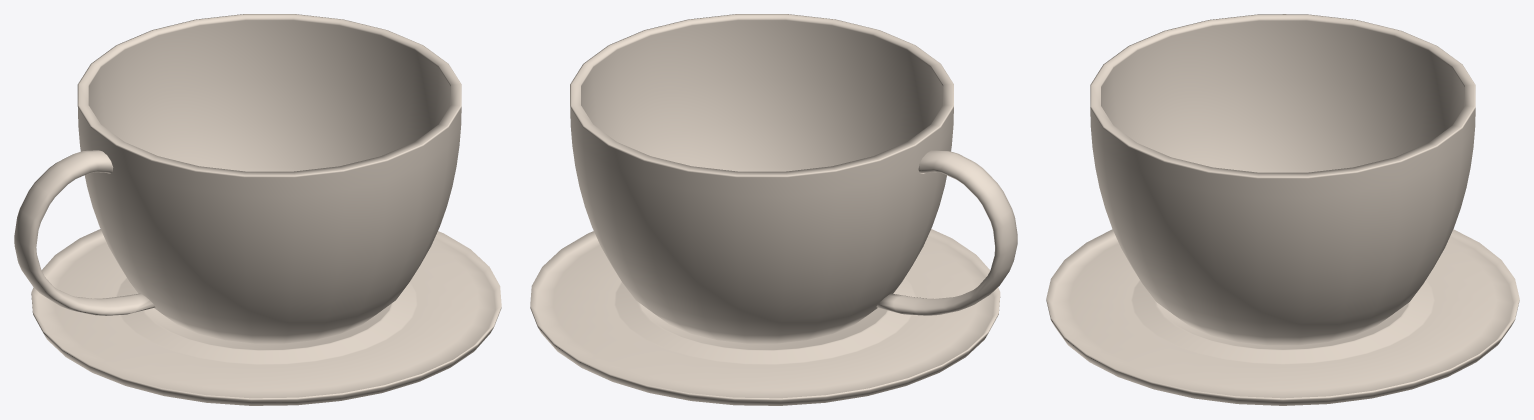
The model's file is Cup empty.fbx.
3 renders of one model, left to right at view 1: azimuth 30°, elevation 25°; view 2: azimuth 150°, elevation 25°; view 3: azimuth 270°, elevation 25°, orthographic.
Parts seen in each view (by area): view 1: Cup, Plate, Handle; view 2: Cup, Plate, Handle; view 3: Cup, Plate.
Boxes of the visible parts, box(x1,y1,x2,y2) form: Cup: box(77, 14, 461, 343); Plate: box(31, 229, 501, 405); Handle: box(14, 150, 155, 315); Cup: box(570, 14, 953, 343); Plate: box(530, 229, 1000, 405); Handle: box(876, 150, 1017, 315); Cup: box(1090, 14, 1475, 345); Plate: box(1046, 229, 1519, 405).
Size of the model in its own units: 443 by 203 by 400.
